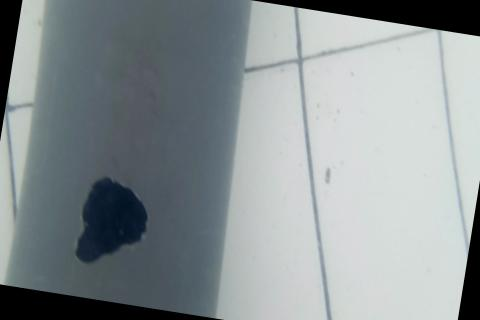kebocoran: (70, 170, 156, 275)
